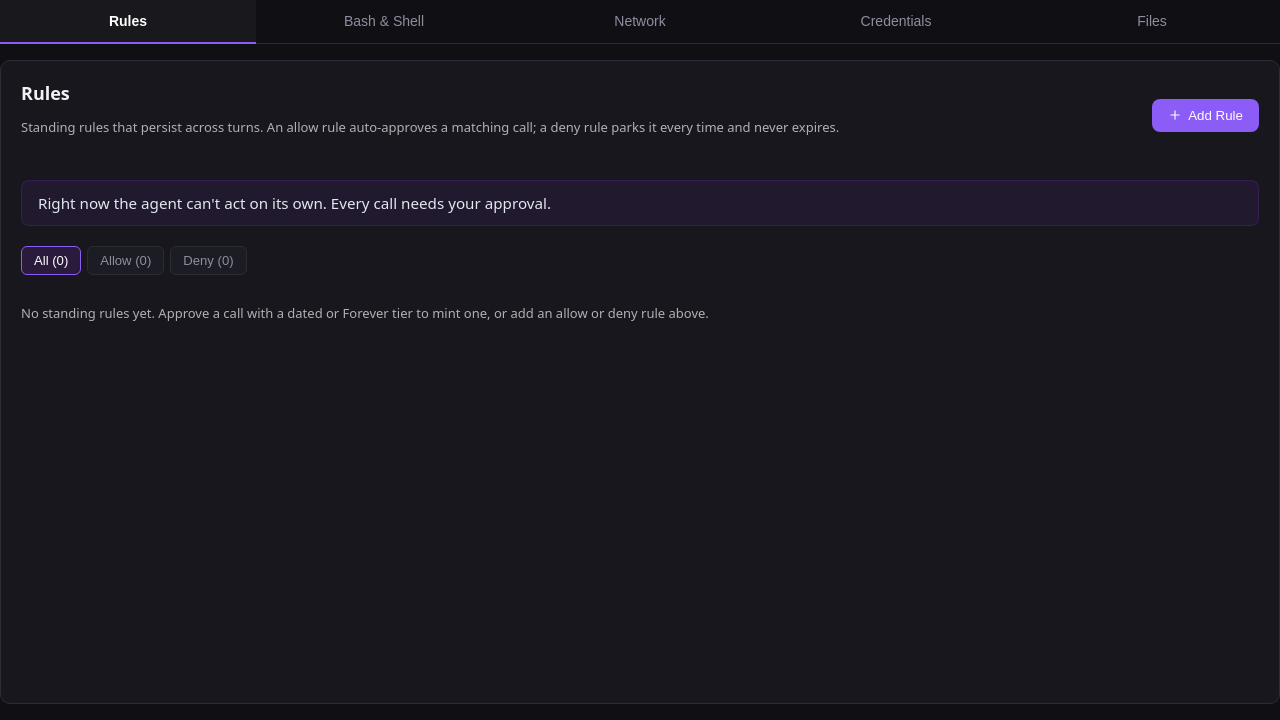
Test: AccessPane › renders the tabs with Rules as the landing section and keeps its selection stable
Check: the tab with test id "access-tab-rules" is shown, box [0,0,256,44]
Check: the tab with test id "access-tab-network" is shown, box [512,0,768,44]
Note: Selecting another section moves the tabs and mounts only that section.
Click the tab with test id "access-tab-bash".
click(384, 22)  # box [256,0,512,44]
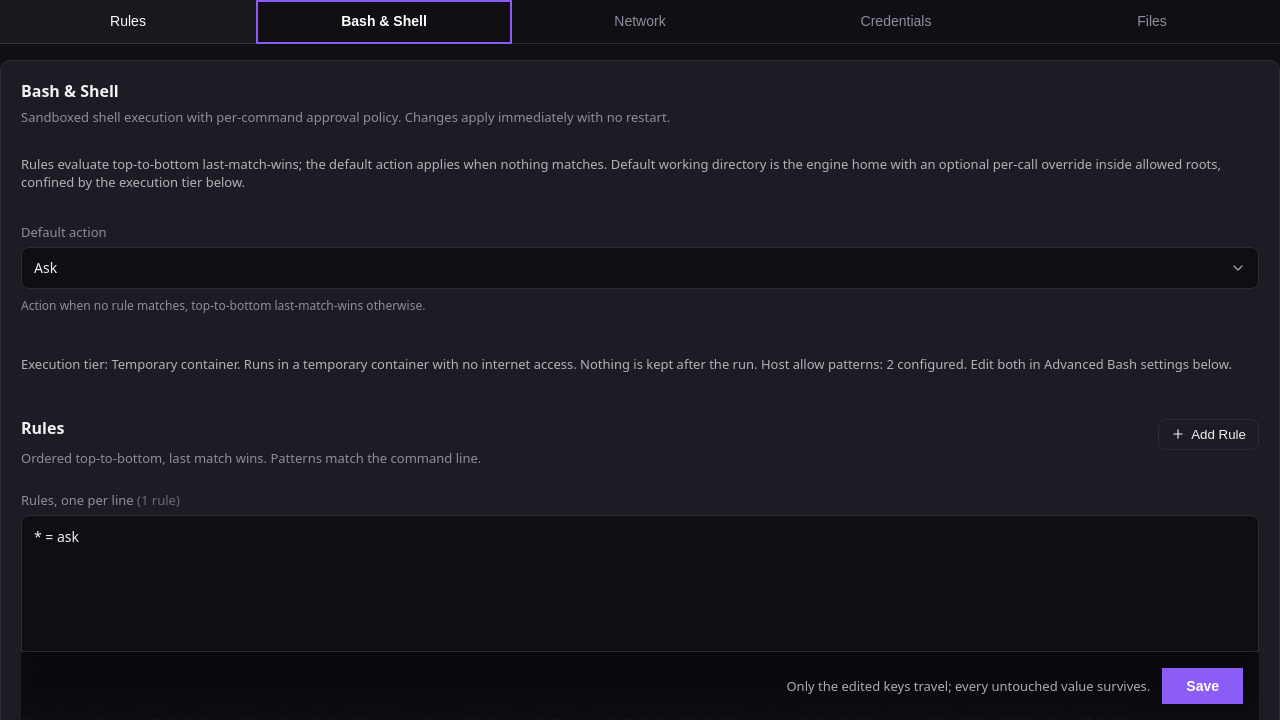
Check: the element with test id "access-rules-section" is gone
Note: Returning to Rules keeps the selection under the shell's control.
Click the tab with test id "access-tab-rules".
click(128, 22)  # box [0,0,256,44]
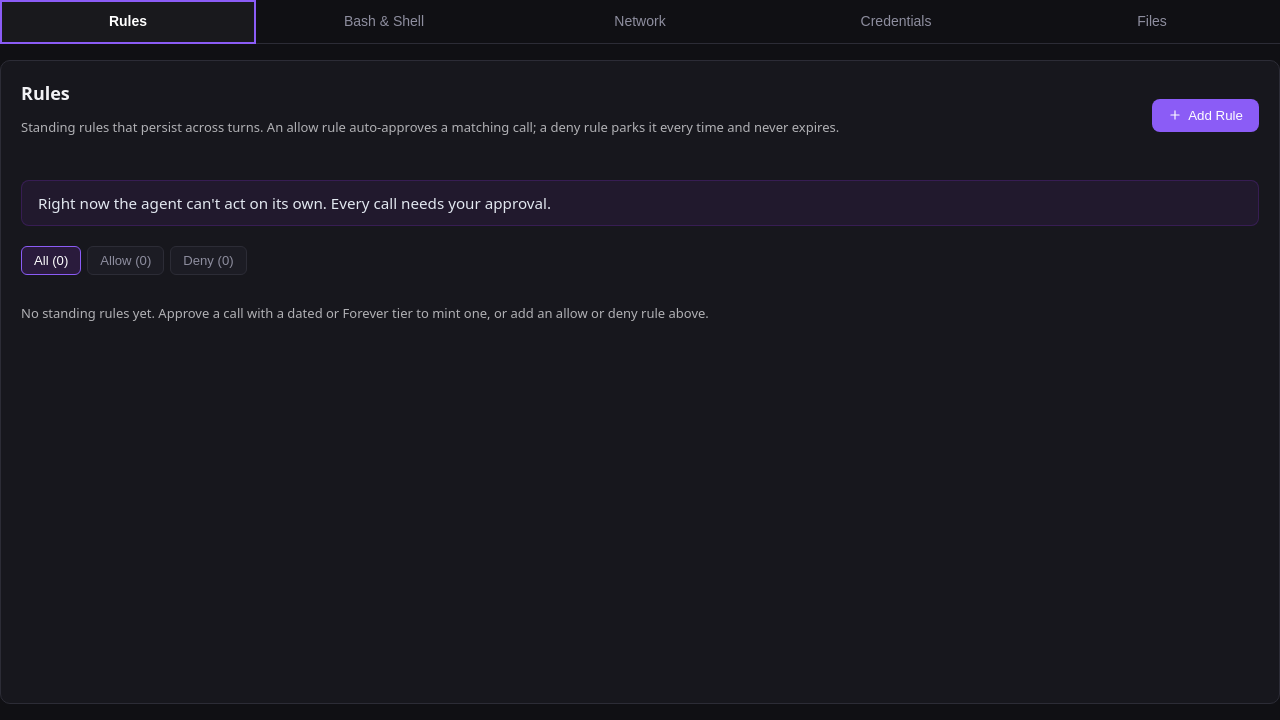
Check: the element with test id "access-rules-section" is shown
